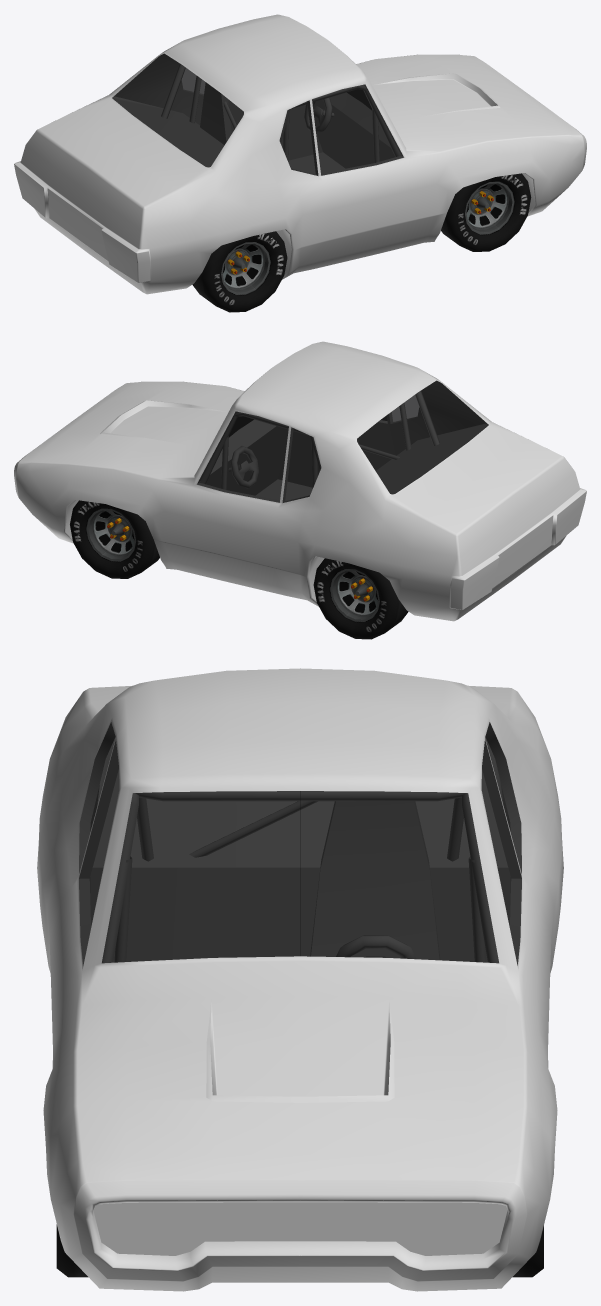
3 renders of one model, top to bottom at view 1: azimuth 30°, elevation 25°; view 2: azimuth 150°, elevation 25°; view 3: azimuth 270°, elevation 25°, orthographic. The views are drawn at different scales.
Parts seen in each view (by area): view 1: CarBody, Glass, TireRearR, TireFrontR; view 2: CarBody, Glass, TireRearL, TireFrontL; view 3: CarBody, Glass.
Part boxes in pixels (<box>): CarBody: <box>14,14,586,294</box>; Glass: <box>112,53,403,175</box>; TireRearR: <box>192,231,287,312</box>; TireFrontR: <box>441,173,531,251</box>; CarBody: <box>14,341,586,621</box>; Glass: <box>197,380,488,502</box>; TireRearL: <box>313,558,408,639</box>; TireFrontL: <box>70,500,159,578</box>; CarBody: <box>37,668,563,1291</box>; Glass: <box>79,722,521,965</box>.
Bounding box in the file's own units: 255 × 104 × 126.
